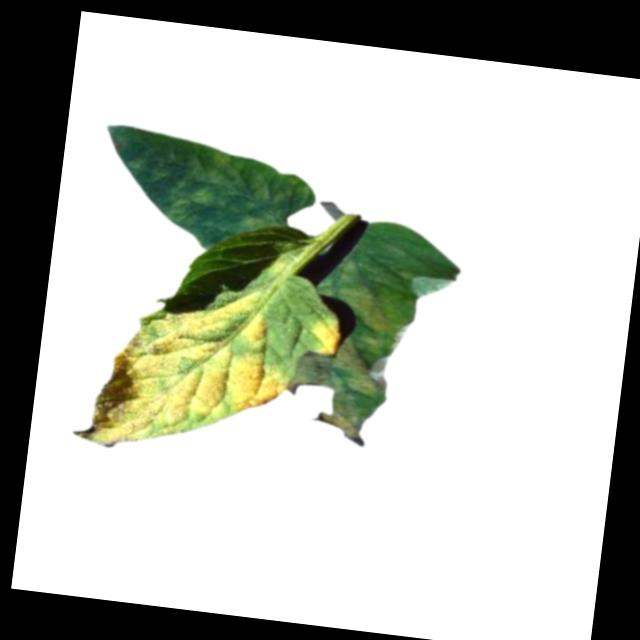Leaf_Mold: (71, 268, 296, 467), (94, 122, 316, 260), (279, 262, 417, 453)
